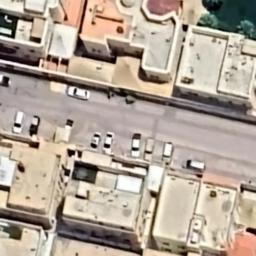SUV: (181, 154, 207, 174)
sedan: (64, 84, 94, 100), (130, 130, 144, 160), (28, 111, 43, 137), (101, 129, 115, 156), (143, 135, 155, 165), (160, 139, 174, 164), (10, 110, 23, 136), (88, 130, 102, 151), (58, 116, 76, 132), (0, 75, 13, 89)
